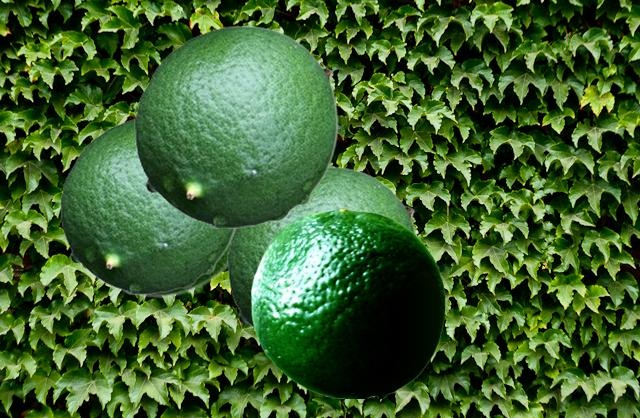calamansi: (134, 25, 337, 227), (251, 207, 444, 397), (60, 116, 237, 293), (227, 166, 418, 330), (70, 118, 226, 298)
